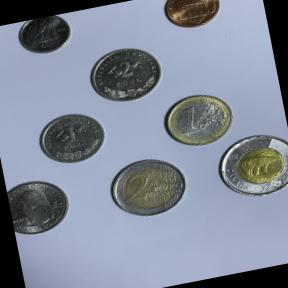coin: (102, 150, 193, 225), (80, 38, 173, 109), (210, 128, 288, 206), (156, 83, 242, 152), (4, 171, 78, 238), (13, 12, 76, 59), (155, 0, 230, 34)
